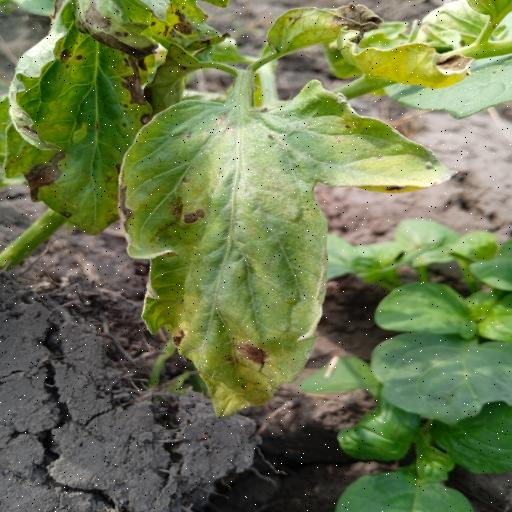Tomato_Brown_Spots: (115, 78, 458, 424)
